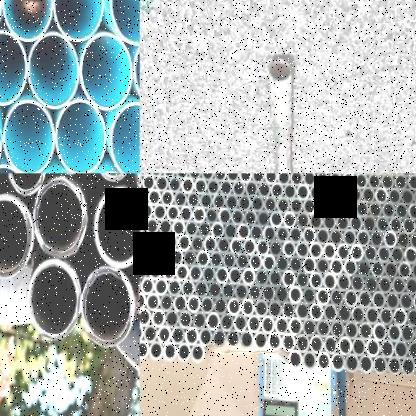pipe: (26, 260, 81, 340), (33, 178, 88, 258), (81, 268, 135, 349), (80, 32, 133, 110), (28, 33, 79, 109), (3, 99, 55, 173), (55, 99, 106, 173), (94, 187, 140, 268), (0, 194, 33, 278), (53, 0, 104, 42), (110, 102, 140, 173), (2, 0, 53, 41), (0, 30, 27, 106), (110, 0, 140, 44), (8, 173, 46, 196), (270, 57, 292, 82), (352, 336, 367, 358), (373, 322, 388, 343), (288, 316, 303, 337), (140, 276, 155, 297), (331, 352, 346, 373), (316, 351, 331, 372), (309, 334, 324, 355), (295, 333, 310, 354), (281, 332, 296, 353), (212, 328, 227, 349), (351, 304, 365, 326), (303, 350, 317, 372), (358, 322, 373, 342), (330, 320, 345, 340), (316, 319, 331, 339), (302, 318, 317, 338), (206, 312, 221, 332), (192, 311, 207, 331), (165, 309, 180, 329), (151, 308, 166, 328), (379, 306, 394, 326), (365, 306, 380, 326), (337, 304, 352, 324), (323, 303, 338, 323), (309, 302, 324, 322), (146, 292, 161, 312), (288, 285, 303, 305), (387, 355, 402, 375), (373, 355, 388, 375), (149, 341, 164, 361), (394, 340, 409, 360), (387, 323, 401, 344), (324, 335, 338, 356), (171, 325, 185, 346), (295, 302, 310, 321), (254, 299, 269, 318), (227, 298, 242, 317), (399, 292, 414, 311), (302, 286, 317, 305), (248, 283, 263, 302), (391, 276, 406, 295), (378, 275, 393, 294), (323, 272, 338, 291), (295, 271, 310, 290), (384, 260, 399, 279), (357, 259, 372, 278), (308, 241, 323, 260), (302, 226, 317, 245), (267, 332, 282, 351), (143, 324, 157, 344), (345, 320, 359, 340), (275, 316, 289, 336), (261, 315, 275, 335), (247, 314, 261, 334), (233, 314, 247, 334), (220, 312, 234, 332), (179, 310, 193, 330), (241, 298, 255, 318), (187, 294, 201, 314), (386, 291, 400, 311), (372, 290, 386, 310), (358, 290, 372, 310), (330, 288, 344, 308), (275, 284, 289, 304), (208, 280, 222, 300), (181, 278, 195, 298), (168, 278, 182, 298), (365, 274, 379, 294), (309, 271, 323, 291), (255, 268, 269, 288), (202, 264, 216, 284), (162, 262, 176, 282), (289, 254, 303, 274), (249, 252, 263, 272), (256, 238, 270, 258), (323, 212, 337, 232), (359, 354, 373, 374), (345, 353, 359, 373), (191, 343, 205, 363), (380, 340, 394, 360), (366, 338, 380, 358), (338, 336, 352, 356), (254, 331, 268, 351), (240, 330, 254, 350), (226, 329, 240, 349), (199, 327, 213, 347), (185, 326, 199, 346), (157, 325, 171, 345), (401, 323, 414, 344), (200, 296, 215, 314), (344, 290, 359, 308), (316, 288, 331, 306), (221, 282, 236, 300), (350, 274, 365, 292), (148, 262, 163, 280), (329, 258, 344, 276), (383, 230, 398, 248), (282, 301, 296, 320), (268, 300, 282, 319), (214, 297, 228, 316), (173, 294, 187, 313), (160, 293, 174, 312), (337, 273, 351, 292), (269, 269, 283, 288), (189, 264, 203, 283), (398, 261, 412, 280), (344, 258, 358, 277), (316, 256, 330, 275), (183, 249, 197, 268), (143, 247, 157, 266), (377, 245, 391, 264), (364, 244, 378, 263), (350, 243, 364, 262), (323, 242, 337, 261), (230, 237, 244, 256), (164, 233, 178, 252), (151, 232, 165, 251), (250, 223, 264, 242), (198, 220, 212, 239), (296, 211, 310, 230), (270, 210, 284, 229), (163, 342, 177, 361), (195, 280, 208, 300), (210, 250, 223, 270), (337, 242, 350, 262), (220, 178, 233, 198), (402, 356, 415, 376), (289, 350, 302, 370), (178, 342, 191, 362), (282, 270, 296, 288), (242, 268, 256, 286), (215, 266, 229, 284), (216, 236, 230, 254), (370, 230, 384, 248), (329, 228, 343, 246), (316, 228, 330, 246), (289, 226, 303, 244), (276, 226, 290, 244), (263, 224, 277, 242), (402, 217, 416, 235), (376, 216, 390, 234), (363, 215, 377, 233), (349, 214, 363, 232), (336, 214, 350, 232), (309, 212, 323, 230), (283, 211, 297, 229), (192, 206, 206, 224), (395, 202, 409, 220), (140, 202, 154, 220), (329, 199, 343, 217), (316, 198, 330, 216), (303, 197, 317, 215), (309, 184, 323, 202), (296, 183, 310, 201), (394, 174, 408, 192), (262, 284, 275, 303), (235, 282, 248, 301), (229, 267, 242, 286), (176, 263, 189, 282), (303, 256, 316, 275), (276, 254, 289, 273), (236, 252, 249, 271), (223, 251, 236, 270), (391, 245, 404, 264), (270, 239, 283, 258), (204, 235, 217, 254), (191, 234, 204, 253), (397, 230, 410, 249), (357, 229, 370, 248), (343, 228, 356, 247), (185, 219, 198, 238), (159, 218, 172, 237), (257, 209, 270, 228), (244, 209, 257, 228), (277, 196, 290, 215), (388, 187, 401, 206), (252, 194, 264, 214), (181, 177, 195, 194), (168, 176, 182, 193), (380, 173, 394, 190), (155, 278, 168, 296), (371, 260, 384, 278), (263, 254, 276, 272), (197, 250, 210, 268), (170, 248, 183, 266), (157, 248, 170, 266), (296, 241, 309, 259), (283, 240, 296, 258), (243, 238, 256, 256), (178, 234, 191, 252), (237, 222, 250, 240), (224, 222, 237, 240), (172, 219, 185, 237), (153, 203, 166, 221), (382, 202, 395, 220), (369, 201, 382, 219), (356, 200, 369, 218), (343, 200, 356, 218), (264, 196, 277, 214), (200, 192, 213, 210), (187, 191, 200, 209), (174, 190, 187, 208), (161, 190, 174, 208), (148, 188, 161, 206), (401, 188, 414, 206), (375, 187, 388, 205), (362, 186, 375, 204), (349, 186, 362, 204), (336, 186, 349, 204), (323, 185, 336, 203), (258, 181, 271, 199), (245, 180, 258, 198), (232, 179, 245, 197), (207, 178, 220, 196), (194, 178, 207, 196), (156, 174, 169, 192), (142, 174, 155, 192), (405, 276, 416, 297), (394, 308, 406, 327), (404, 246, 416, 265), (212, 221, 224, 240), (390, 216, 402, 235), (354, 173, 368, 189), (167, 205, 180, 222), (271, 182, 284, 199), (140, 308, 151, 328), (232, 208, 244, 226), (219, 208, 231, 226), (206, 206, 218, 224), (239, 194, 251, 212), (226, 193, 238, 211), (213, 192, 225, 210), (284, 182, 296, 200), (315, 173, 329, 188), (146, 218, 159, 234), (341, 173, 354, 189), (291, 197, 303, 214), (368, 173, 380, 190), (406, 308, 416, 328), (140, 231, 151, 249), (180, 206, 192, 222), (407, 339, 416, 360), (303, 173, 316, 187), (406, 173, 416, 191), (329, 173, 341, 188), (140, 340, 149, 360), (277, 173, 290, 186), (407, 202, 416, 220), (140, 260, 148, 280), (290, 173, 302, 186), (264, 173, 277, 185), (252, 173, 265, 184), (409, 231, 416, 250), (239, 173, 252, 183), (140, 187, 147, 205), (213, 173, 227, 182), (410, 260, 416, 280), (226, 173, 238, 183), (201, 173, 214, 182), (140, 292, 146, 310), (188, 173, 201, 181), (174, 173, 188, 180), (140, 216, 145, 233), (162, 173, 175, 179), (140, 245, 144, 264), (140, 323, 143, 344), (413, 292, 416, 311), (413, 187, 416, 206), (149, 174, 163, 178), (414, 324, 416, 344), (415, 357, 416, 376), (415, 218, 416, 236)
